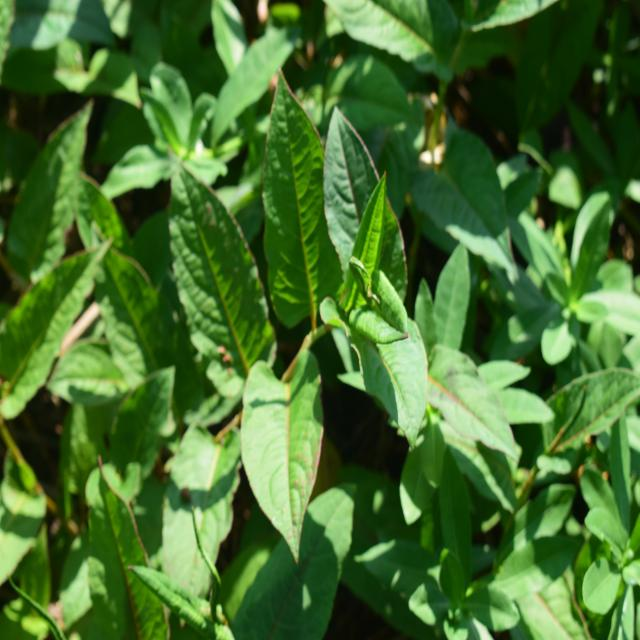Chinese_knotweed: (162, 91, 426, 536)
